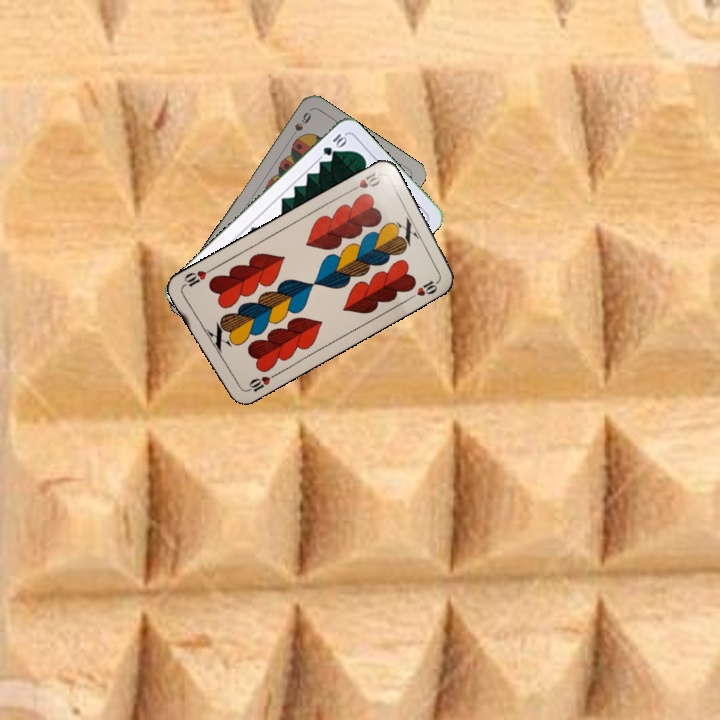G10: (319, 130, 349, 158)
H10: (345, 167, 383, 195), (240, 370, 278, 395)
S9: (285, 108, 314, 143)
